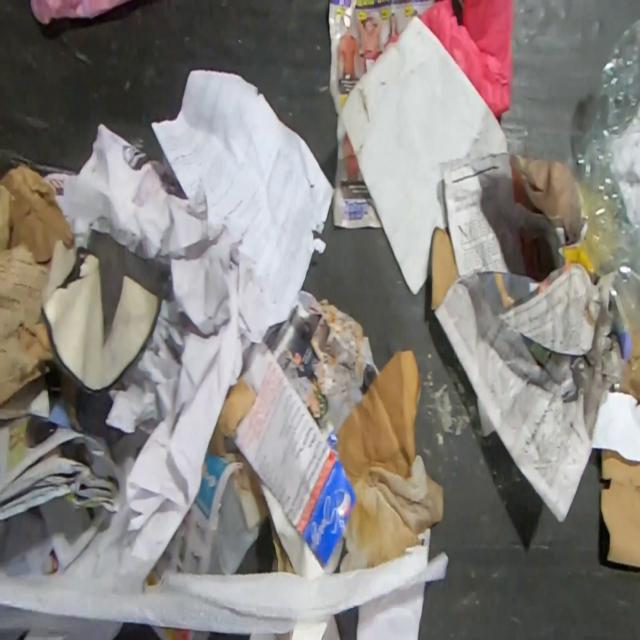cardboard: (207, 339, 359, 572), (0, 162, 76, 417), (336, 348, 424, 487), (599, 448, 640, 570), (429, 226, 459, 310)
soft_plastic: (568, 14, 640, 336)
